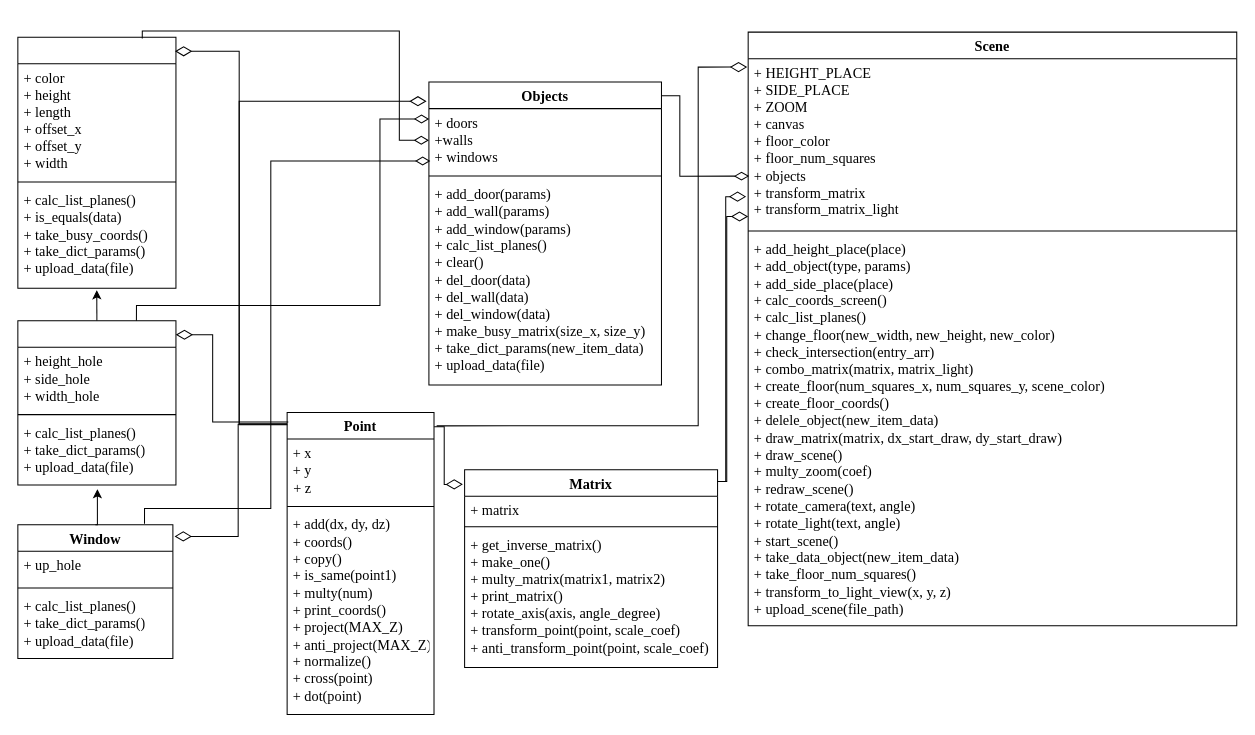
The diagram is 1255 pixels wide and 735 high, and some of its shapes have lost their labels. Each missing label, with the box of its shape:
Door: (17, 320, 176, 485)
Wall: (17, 36, 176, 288)
